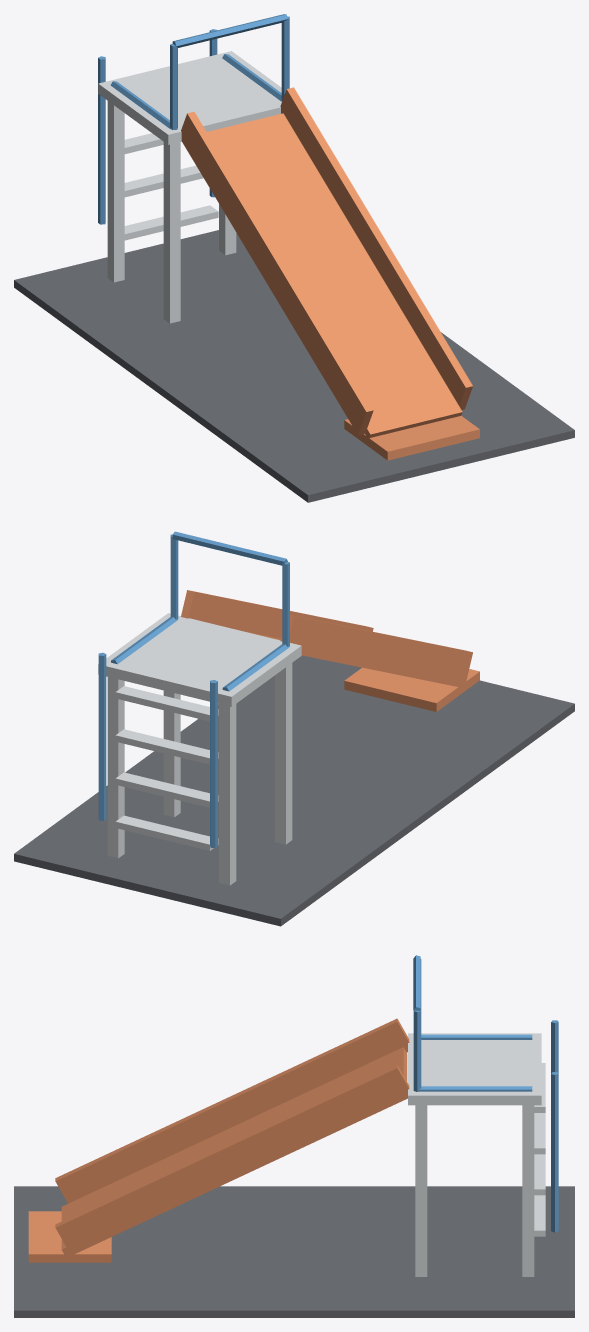
File: slide.glb
3 renders of one model, top to bottom at view 1: azimuth 30°, elevation 25°; view 2: azimuth 150°, elevation 25°; view 3: azimuth 270°, elevation 25°, orthographic. The views are drawn at different scales.
Visible parts, largest first — view 1: playground-slide-charcoal, playground-slide-flame, playground-slide-galv, playground-slide-azure; view 2: playground-slide-charcoal, playground-slide-galv, playground-slide-flame, playground-slide-azure; view 3: playground-slide-charcoal, playground-slide-flame, playground-slide-galv, playground-slide-azure.
Boxes of the visible parts, x1,y1,x2,y2 form: playground-slide-charcoal: (14, 230, 574, 502); playground-slide-flame: (181, 87, 479, 460); playground-slide-galv: (98, 51, 281, 323); playground-slide-azure: (98, 14, 289, 224); playground-slide-charcoal: (14, 655, 574, 926); playground-slide-galv: (98, 613, 301, 885); playground-slide-flame: (181, 590, 479, 711); playground-slide-azure: (98, 531, 289, 848); playground-slide-charcoal: (14, 1186, 574, 1317); playground-slide-flame: (28, 1018, 409, 1262); playground-slide-galv: (408, 1033, 545, 1276); playground-slide-azure: (413, 955, 558, 1232).
Bounding box in the file's own units: 2.2 × 2.27 × 4.2.
